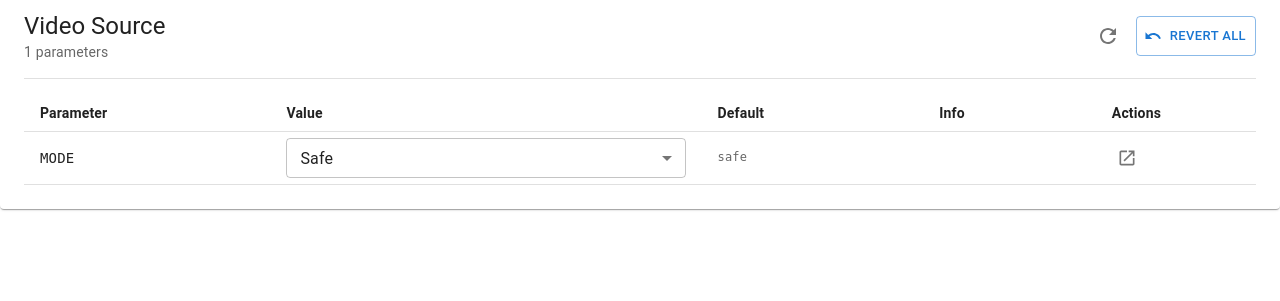
Test: an enum exposes custom input only when the schema explicitly permits it
This screenshot has width=1280, height=301.
Press the mouse on the dropdown at [317, 158], box [300, 148, 333, 168]
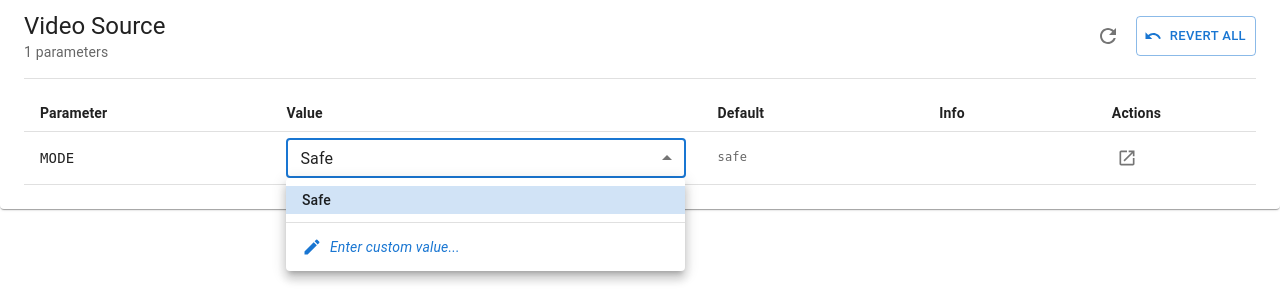
Check: the option "Enter custom value..." is shown, box [302, 237, 460, 257]
